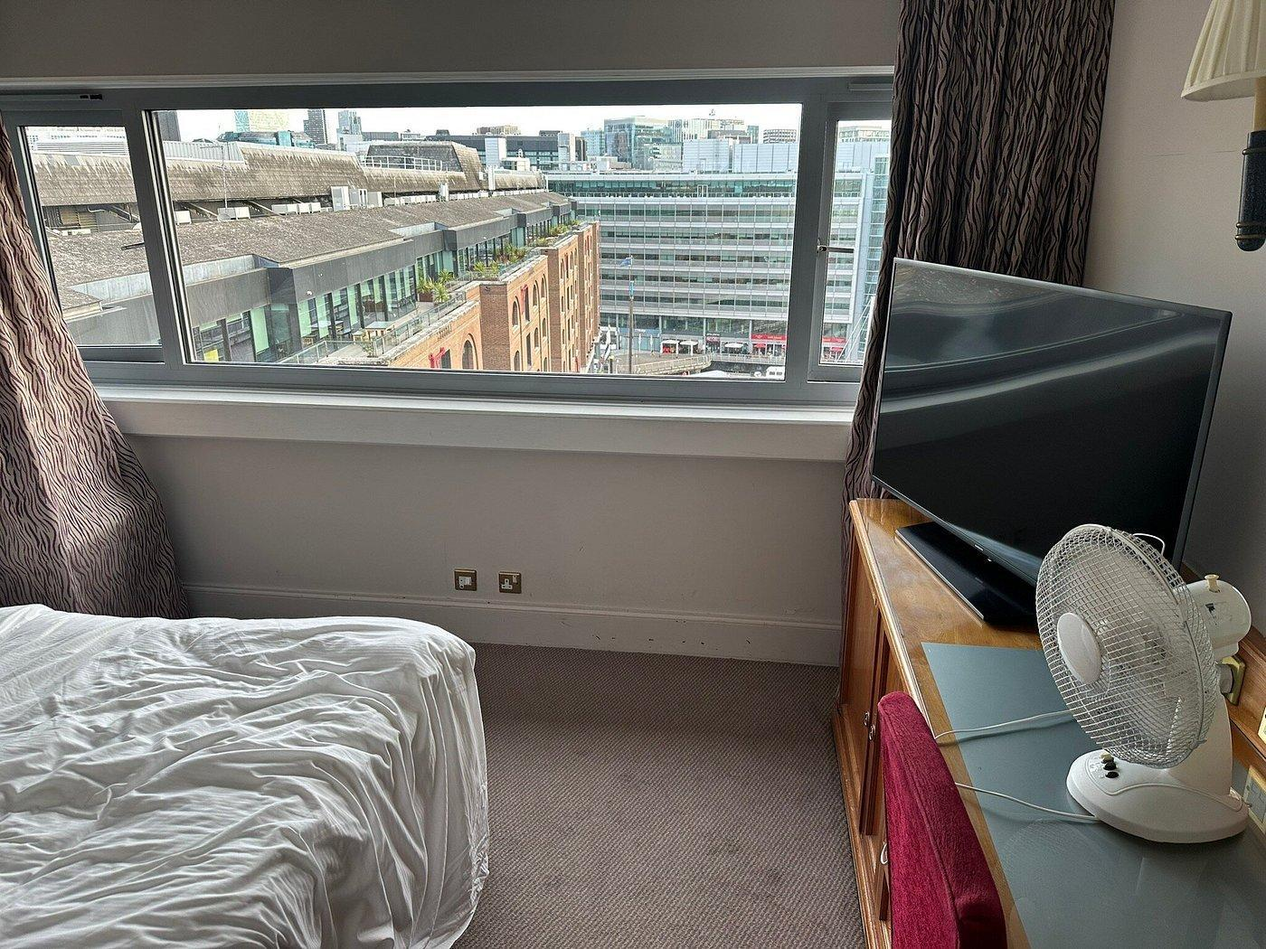messy_bed: (9, 587, 508, 949)
